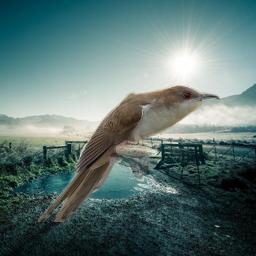Cuckoo: (38, 85, 220, 222)
